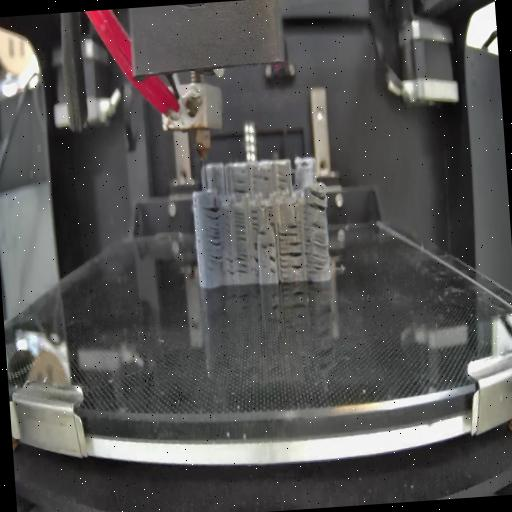cracks: (302, 219, 329, 275), (203, 204, 223, 261), (278, 238, 304, 274), (306, 190, 328, 212), (233, 210, 247, 242), (233, 250, 249, 276), (250, 242, 260, 280), (230, 176, 247, 198), (278, 221, 298, 239), (222, 254, 234, 278), (265, 202, 276, 228), (268, 255, 278, 278), (250, 208, 260, 231), (260, 240, 276, 252), (276, 174, 288, 190), (252, 172, 271, 182), (260, 229, 266, 236)
